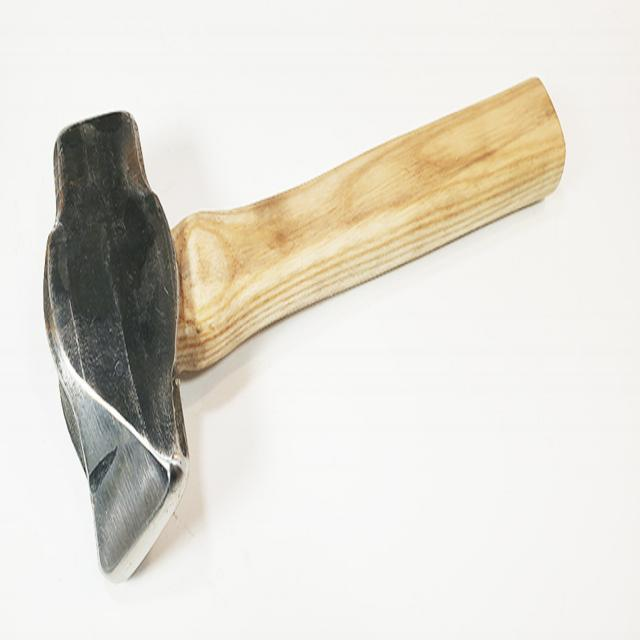hammer: (37, 55, 585, 596)
